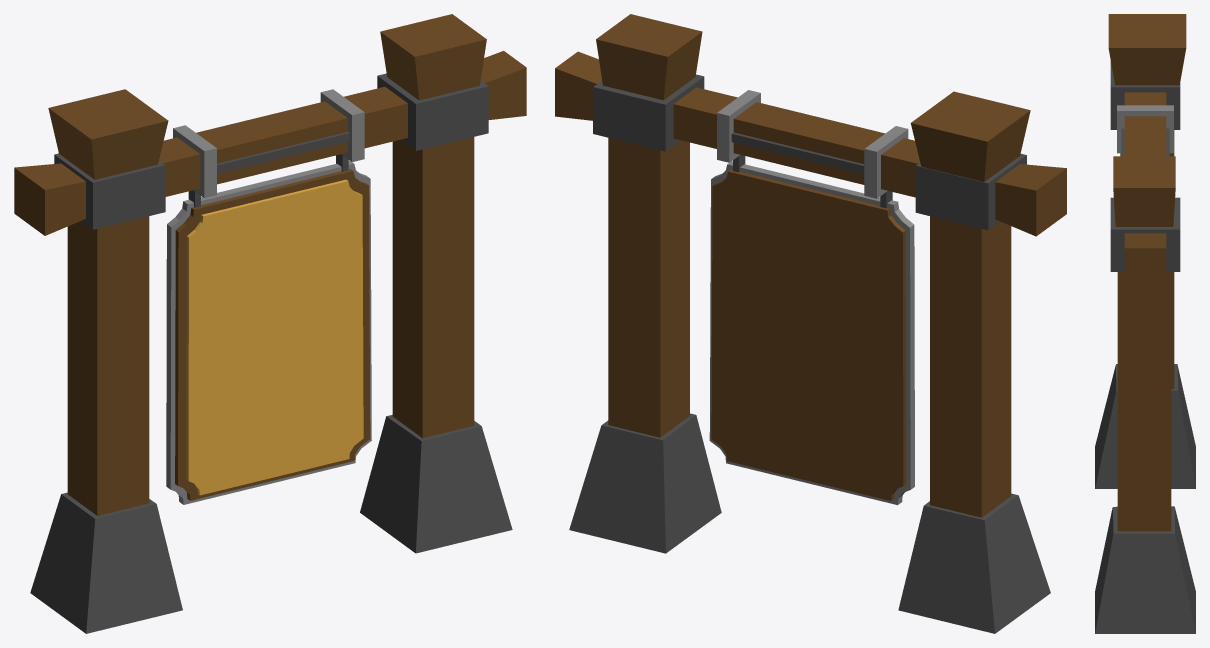
The model's file is Low Poly Leaderboard.fbx.
3 renders of one model, left to right at view 1: azimuth 30°, elevation 25°; view 2: azimuth 150°, elevation 25°; view 3: azimuth 270°, elevation 25°, orthographic. The views are drawn at different scales.
Parts seen in each view (by area): view 1: Cube.014, Cube.002, Cube.003, Cube.006, Cube, Cube.001, Cube.012, Cube.013, Cube.005, Cube.004, Cube.009, Cube.008 (+1 smaller); view 2: Cube.012, Cube.002, Cube.003, Cube.006, Cube, Cube.001, Cube.013, Cube.005, Cube.004, Cube.009, Cube.007, Cube.008; view 3: Cube.003, Cube.001, Cube.002, Cube.006, Cube, Cube.005, Cube.004, Cube.007, Cube.009.
Part boxes in pixels (left/top/right/bottom): Cube.014: left=186, top=179, right=363, bottom=495; Cube.002: left=48, top=89, right=168, bottom=515; Cube.003: left=380, top=14, right=486, bottom=438; Cube.006: left=14, top=51, right=526, bottom=235; Cube: left=30, top=492, right=182, bottom=633; Cube.001: left=360, top=415, right=512, bottom=553; Cube.012: left=175, top=169, right=370, bottom=500; Cube.013: left=166, top=160, right=371, bottom=504; Cube.005: left=377, top=73, right=488, bottom=150; Cube.004: left=54, top=153, right=165, bottom=229; Cube.009: left=217, top=132, right=349, bottom=173; Cube.008: left=320, top=89, right=364, bottom=162; Cube.012: left=711, top=169, right=906, bottom=500; Cube.002: left=910, top=91, right=1030, bottom=517; Cube.003: left=596, top=14, right=702, bottom=437; Cube.006: left=555, top=51, right=1066, bottom=236; Cube: left=898, top=493, right=1050, bottom=633; Cube.001: left=569, top=413, right=721, bottom=553; Cube.013: left=709, top=161, right=914, bottom=505; Cube.005: left=593, top=74, right=704, bottom=151; Cube.004: left=915, top=153, right=1026, bottom=230; Cube.009: left=731, top=132, right=864, bottom=174; Cube.007: left=864, top=126, right=908, bottom=198; Cube.008: left=717, top=90, right=760, bottom=162; Cube.003: left=1113, top=156, right=1175, bottom=531; Cube.001: left=1095, top=506, right=1195, bottom=633; Cube.002: left=1108, top=14, right=1186, bottom=388; Cube.006: left=1124, top=92, right=1166, bottom=291; Cube: left=1095, top=364, right=1195, bottom=488; Cube.005: left=1110, top=197, right=1180, bottom=271; Cube.004: left=1110, top=61, right=1180, bottom=129; Cube.007: left=1117, top=105, right=1173, bottom=153; Cube.009: left=1121, top=128, right=1169, bottom=156.
Bounding box in the file's own units: 1003 × 961 × 200.
